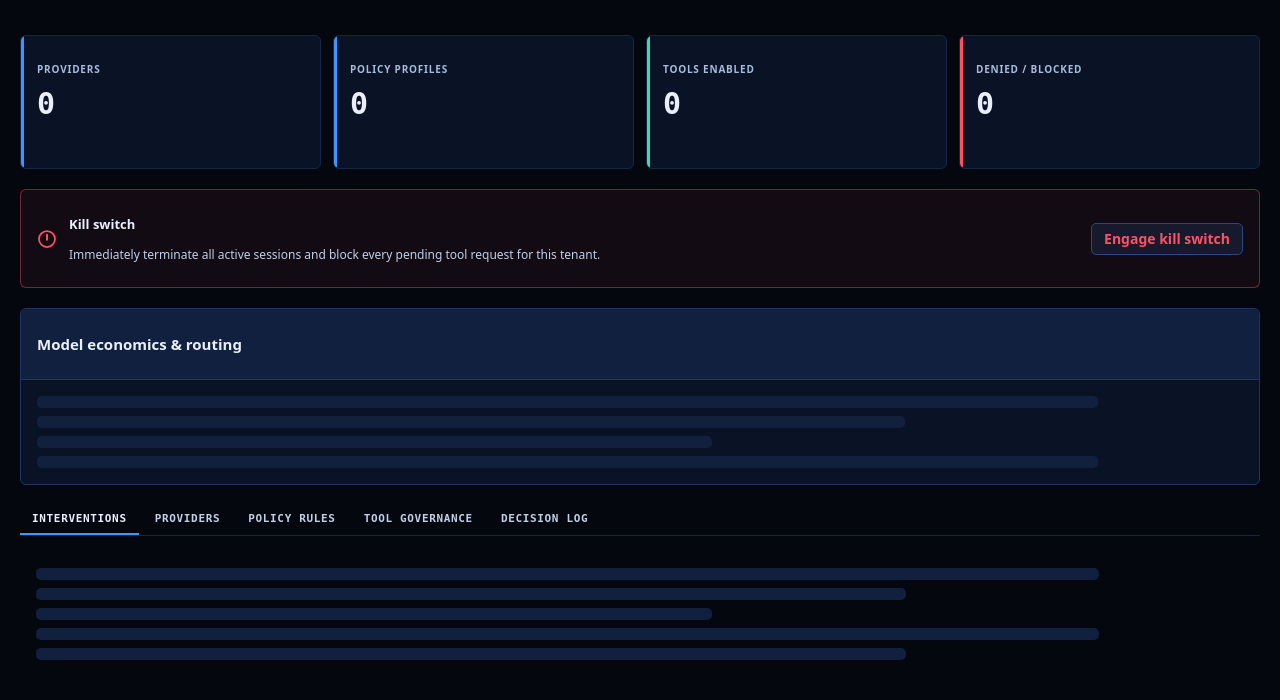
Scenario: FrontierGatewayConsole › opens full policy-profile authoring and edit controls
The width and height of the screenshot is (1280, 700).
(page scrolled)
Press the mouse on the tab "Policy rules" at [292, 520], box x1=236 y1=504 x2=348 y2=535
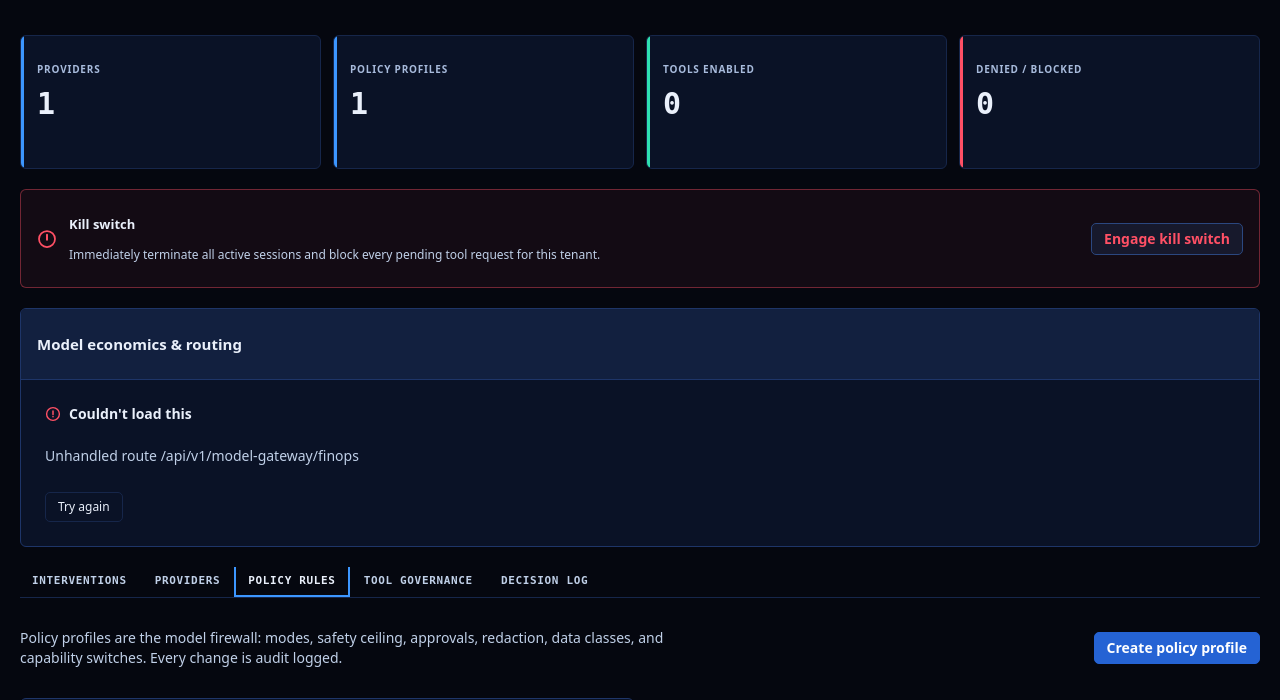
Click the button "Create policy profile".
click(1177, 648)  # box x1=1094 y1=632 x2=1260 y2=664
(page scrolled)
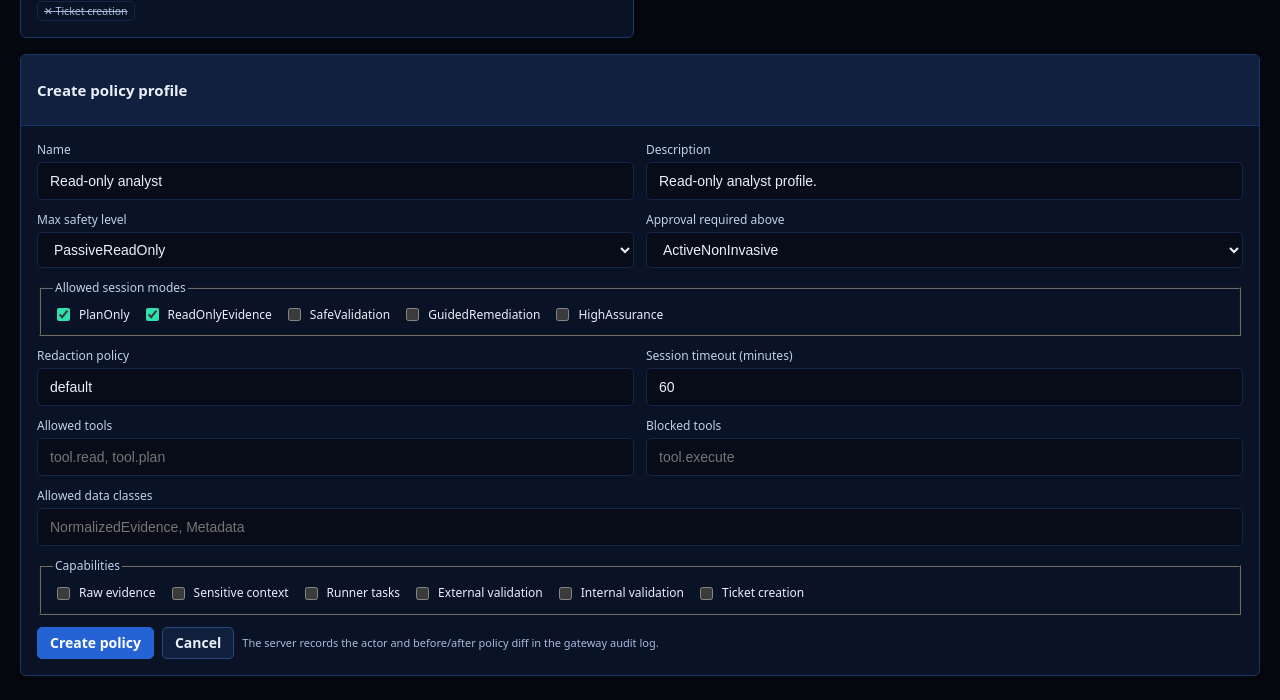
Now the dropdown labelled "Max safety level" is shown, box x1=37 y1=232 x2=634 y2=268
Now the dropdown labelled "Approval required above" is shown, box x1=646 y1=232 x2=1243 y2=268
Now the field labelled "Redaction policy" is shown, box x1=37 y1=368 x2=634 y2=406
